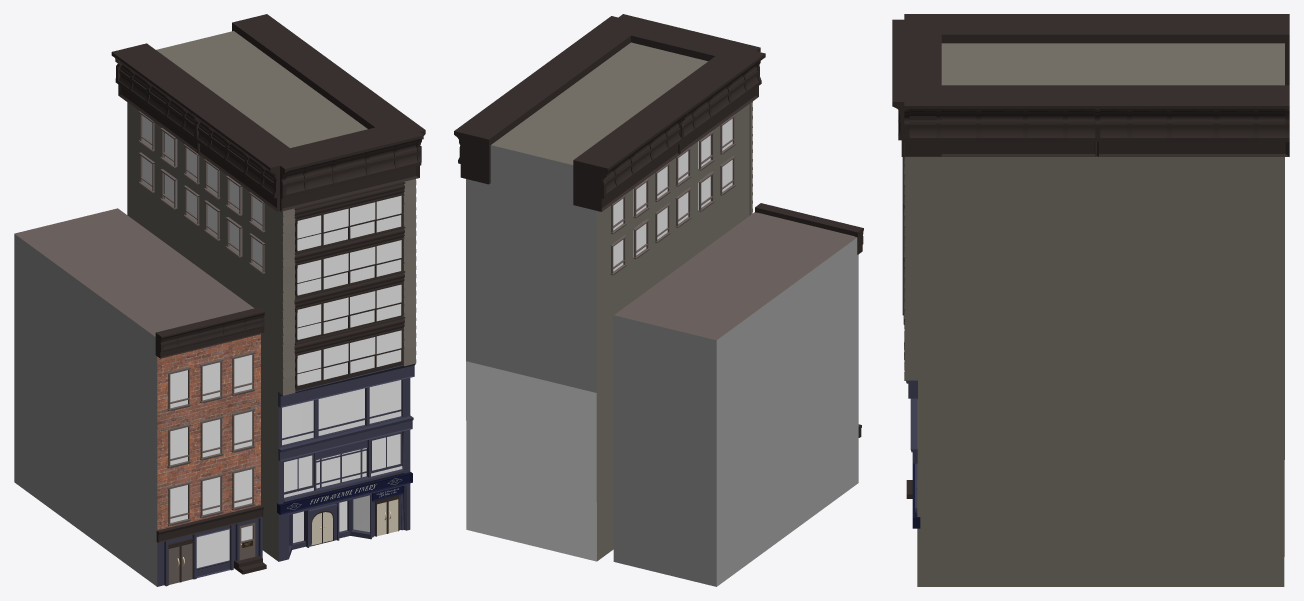
The model's file is AL_buildingset01_TL.fbx.
3 renders of one model, left to right at view 1: azimuth 30°, elevation 25°; view 2: azimuth 150°, elevation 25°; view 3: azimuth 270°, elevation 25°, orthographic. The views are drawn at different scales.
Parts seen in each view (by area): view 1: pCube112, pCube111; view 2: pCube112, pCube111; view 3: pCube112.
Boxes of the visible parts, x1,y1,x2,y2 form: pCube112: (111, 14, 425, 561); pCube111: (14, 208, 266, 586); pCube112: (454, 14, 765, 561); pCube111: (613, 203, 863, 586); pCube112: (892, 14, 1289, 586).
Size of the model in its own units: 23.3 by 34.38 by 25.43.
Materials: 12 (4 with a texture image).
